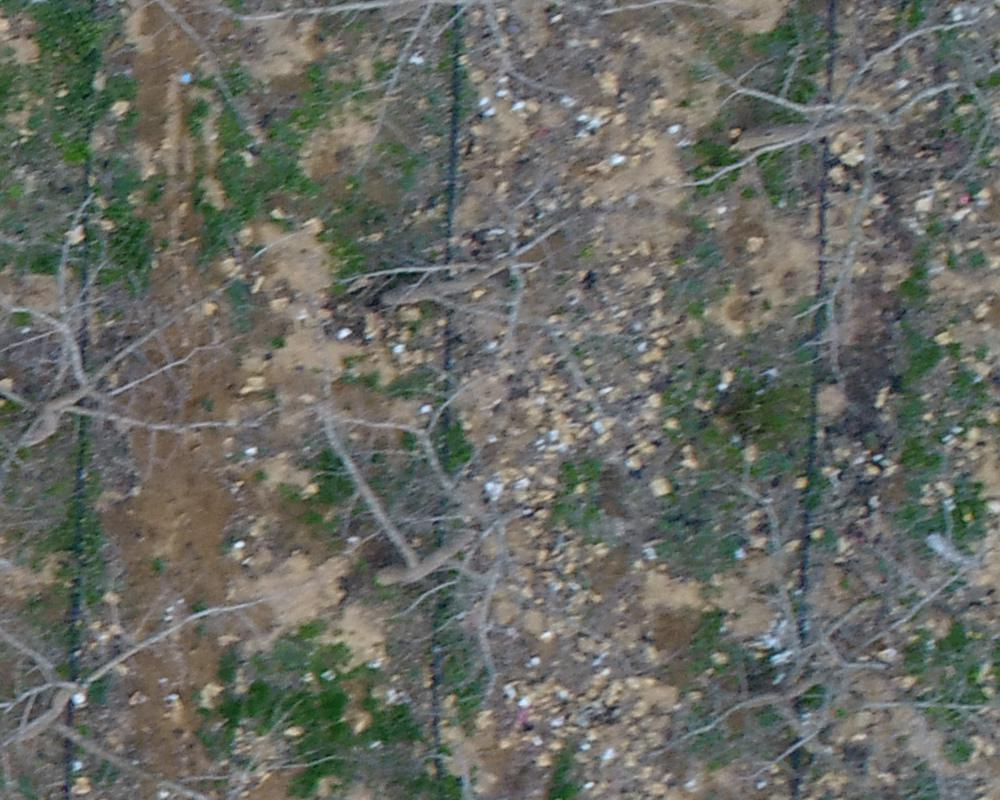apple: (663, 10, 990, 391), (279, 331, 588, 718), (10, 166, 311, 554), (635, 475, 990, 790), (337, 166, 661, 424), (10, 554, 297, 790)
